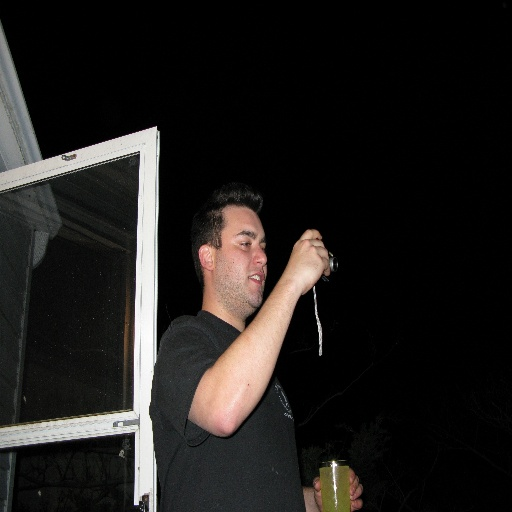hand: (275, 237, 334, 307), (311, 468, 364, 511)
